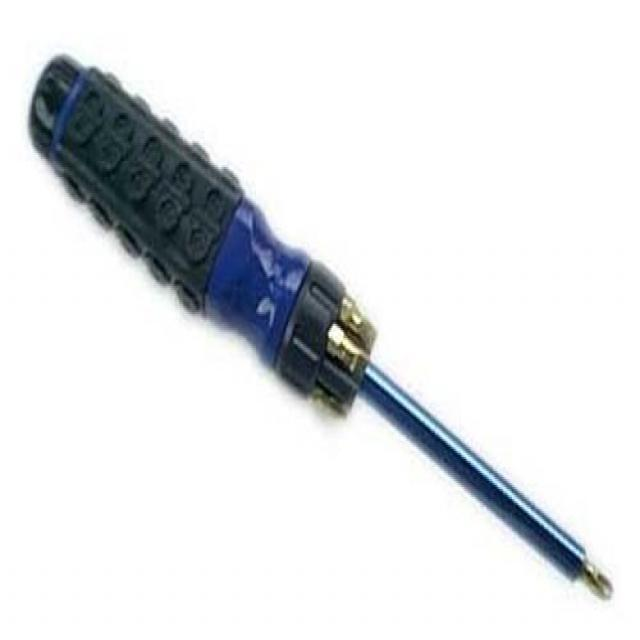screwdriver: (22, 45, 629, 610)
